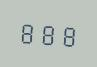eight: (18, 17, 36, 46), (38, 19, 56, 47), (57, 20, 75, 48)
